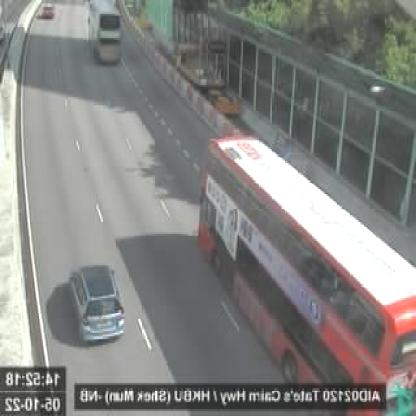Bus: (198, 135, 416, 410), (90, 0, 120, 69)
Car: (70, 263, 125, 340), (43, 2, 55, 17)
